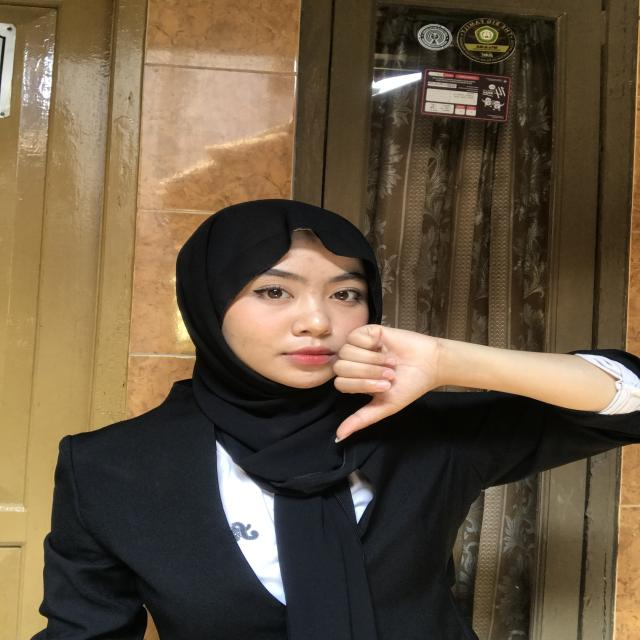sedih: (298, 298, 469, 446)
